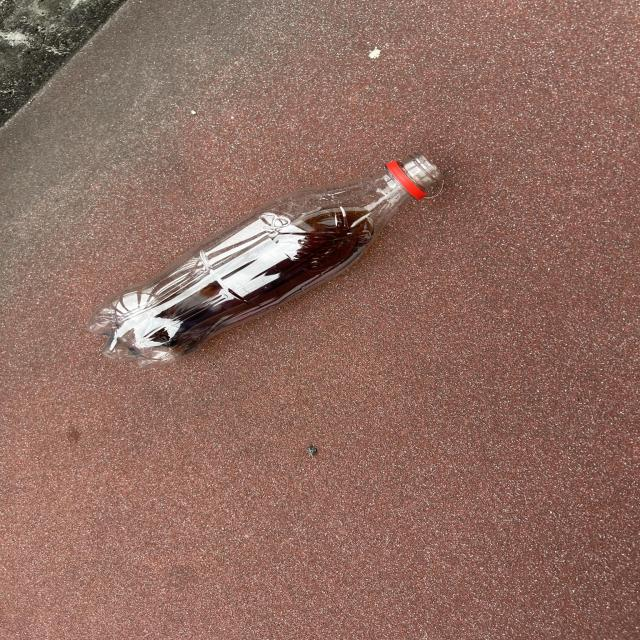low: (89, 154, 442, 366)
